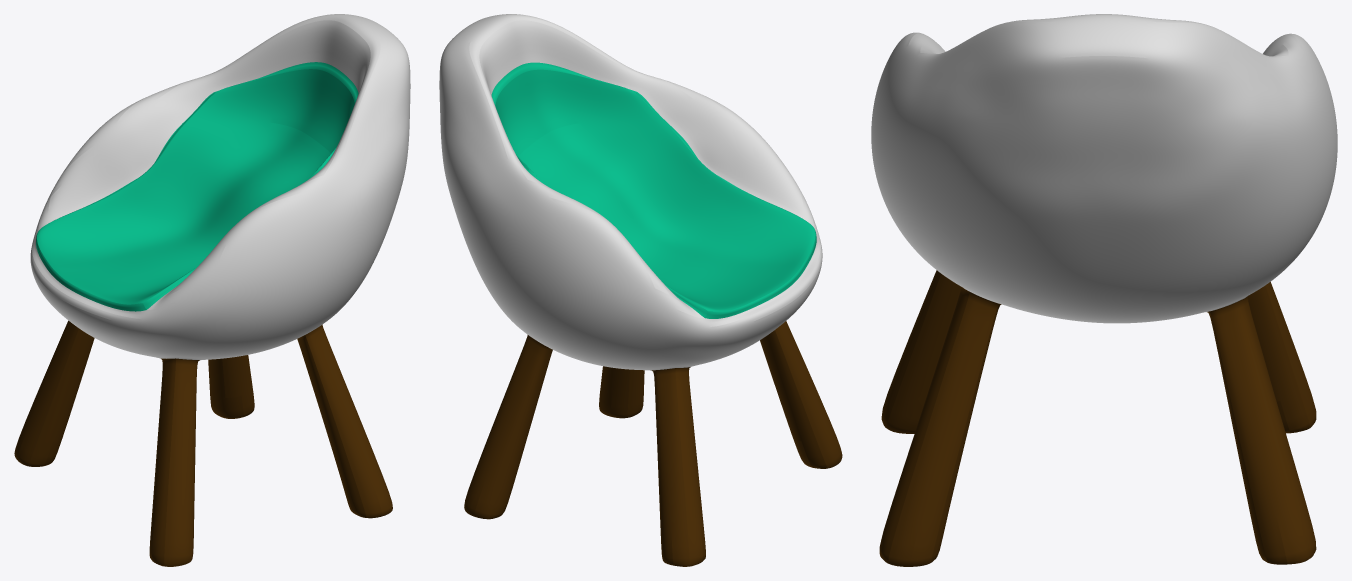
The model's file is seat2.fbx.
3 renders of one model, left to right at view 1: azimuth 30°, elevation 25°; view 2: azimuth 150°, elevation 25°; view 3: azimuth 270°, elevation 25°, orthographic. The views are drawn at different scales.
Parts seen in each view (by area): view 1: Cube; view 2: Cube; view 3: Cube.
Boxes of the visible parts, box(x1,y1,x2,y2) form: Cube: box(14, 14, 410, 566); Cube: box(439, 14, 842, 566); Cube: box(871, 14, 1337, 566).
Bounding box in the file's own units: 303 × 365 × 265.
